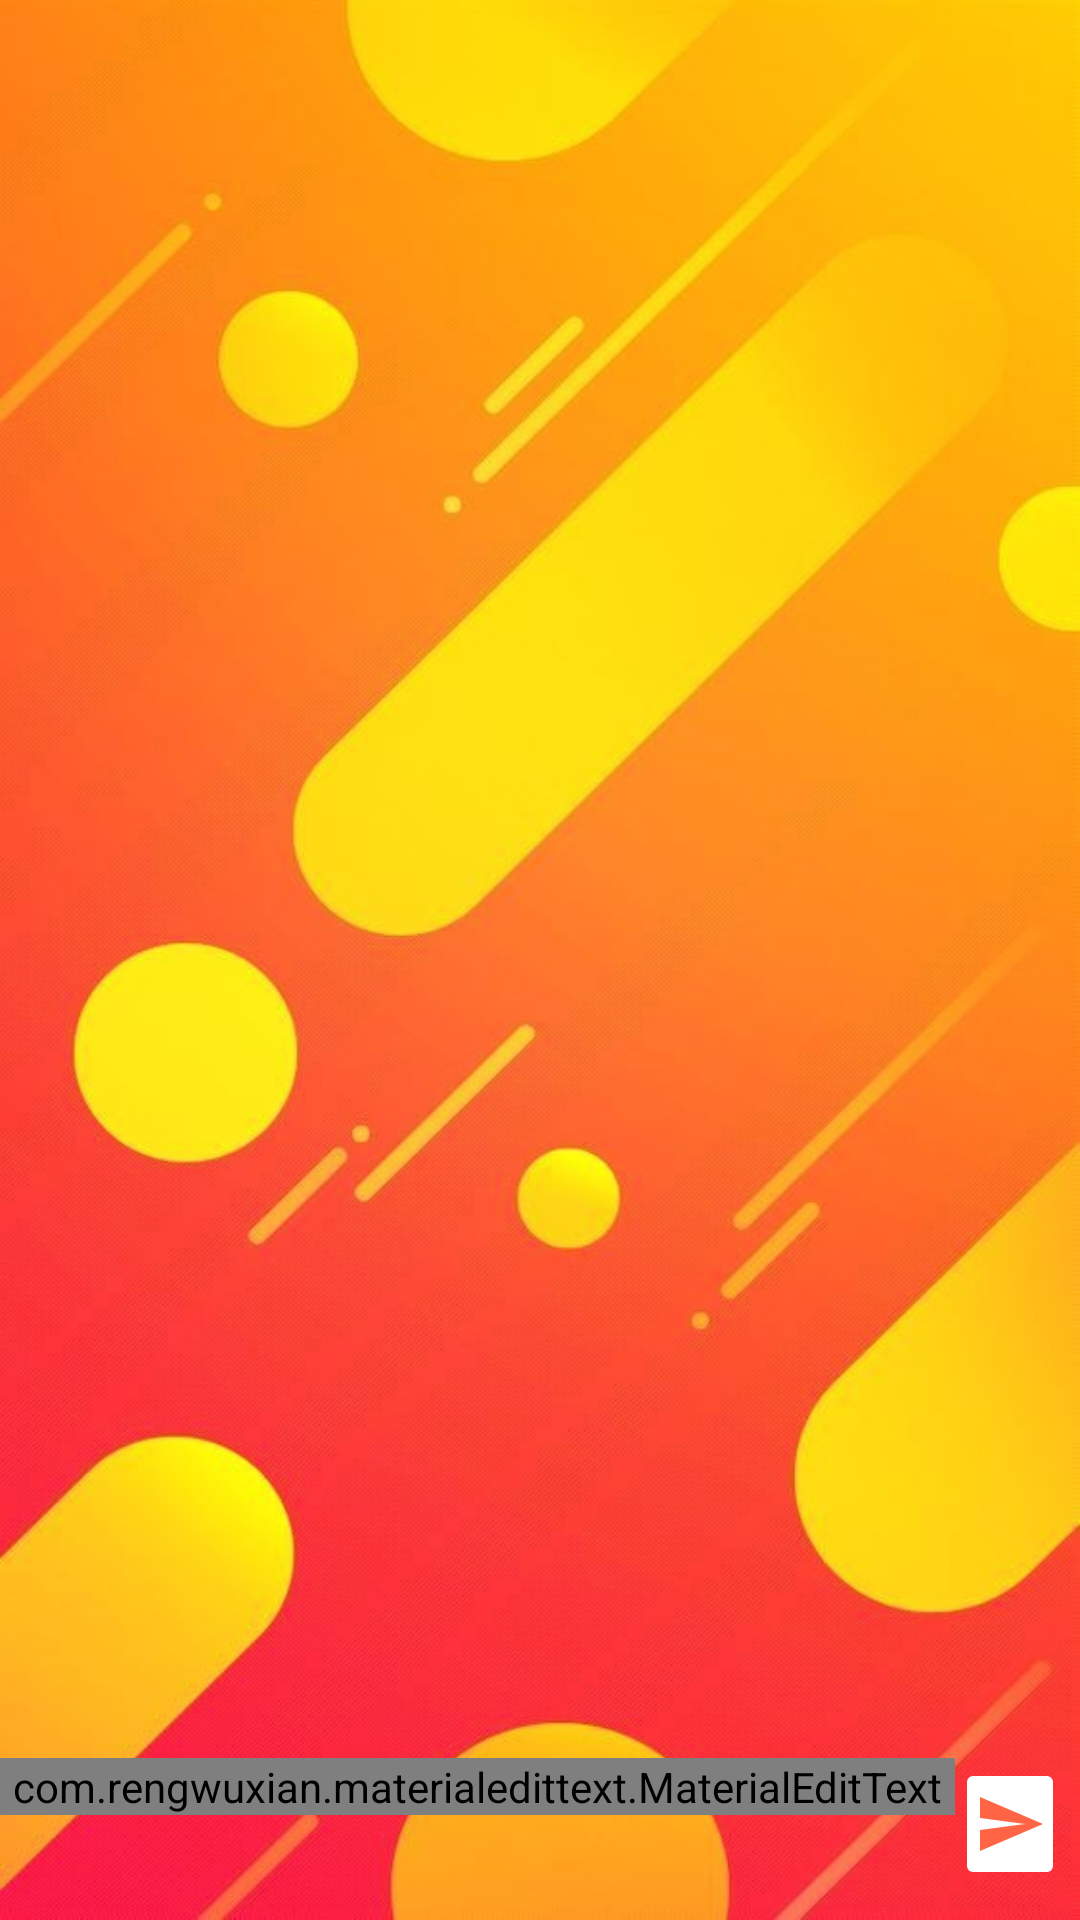

Icons on this 1080px×1920px Android screen, each with its box as [x1=x1, y1=y1, x2=x2, y2=y2]:
send: [x1=962, y1=1761, x2=1053, y2=1872]
